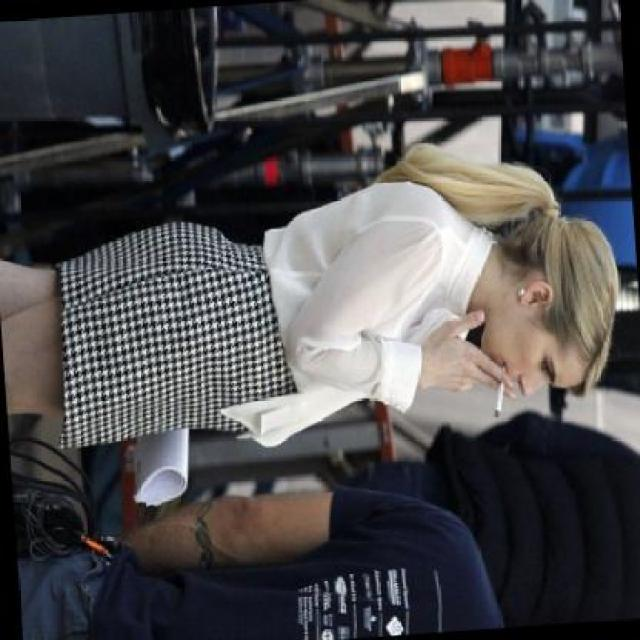cigarette: (424, 300, 509, 424)
